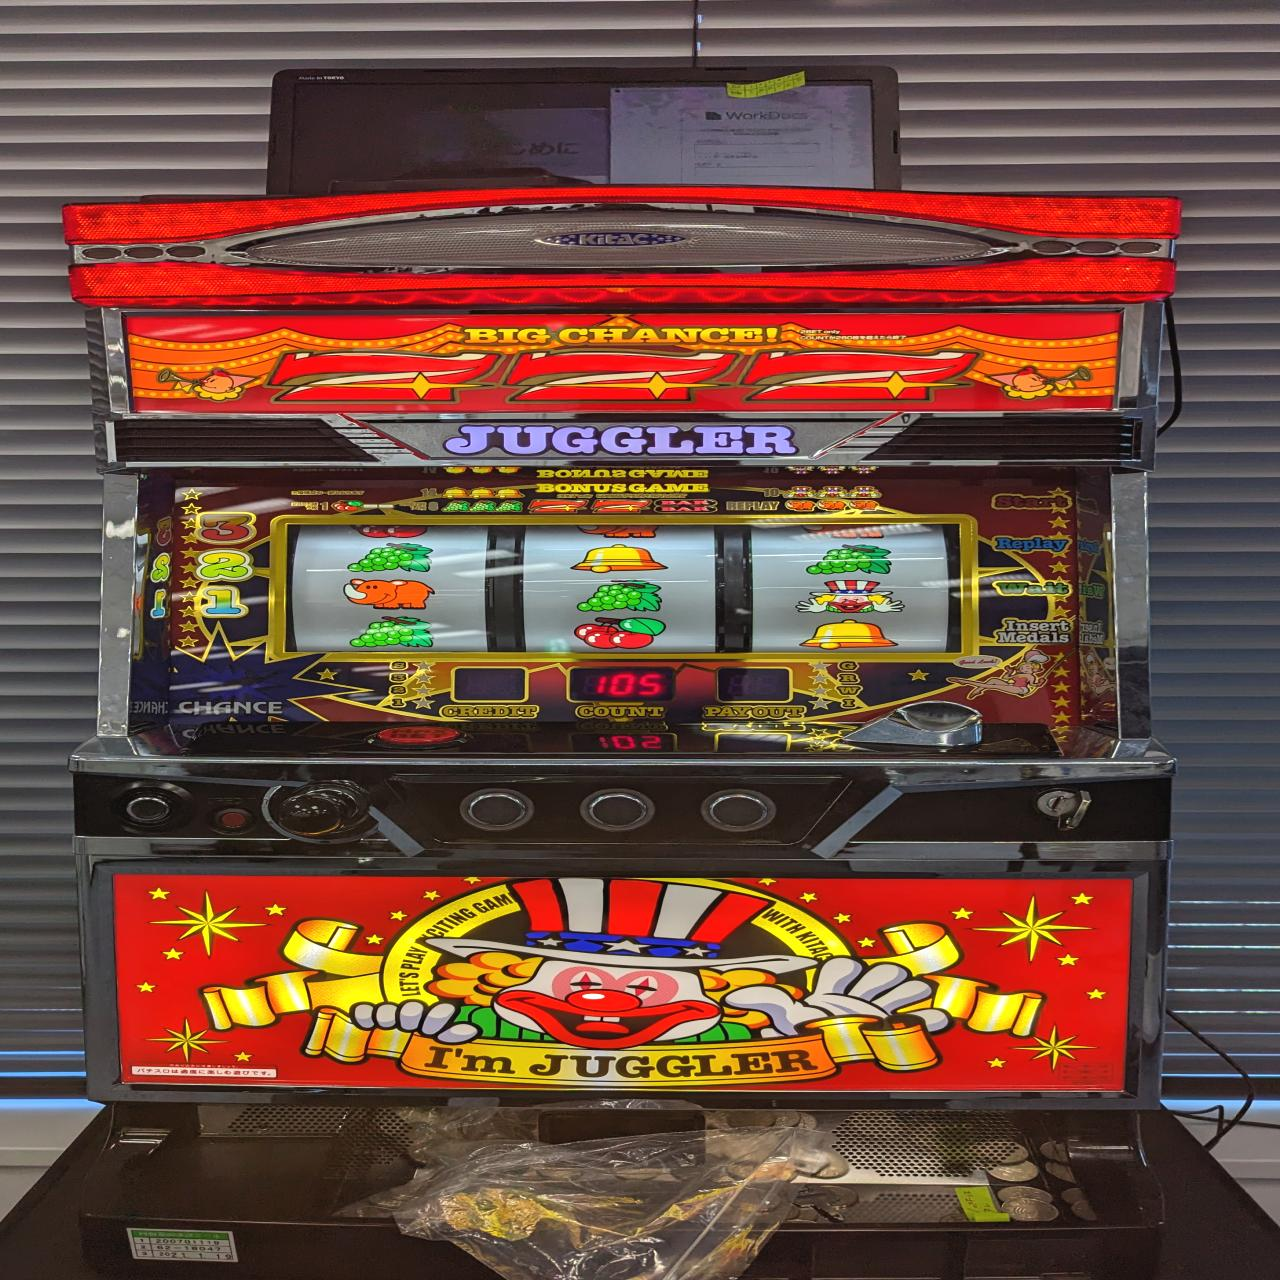Display: (278, 517, 975, 660)
bell: (801, 619, 898, 651), (570, 544, 672, 573)
cherry: (576, 617, 667, 649)
clown: (791, 580, 903, 614)
grape: (576, 579, 667, 613), (343, 542, 434, 576), (806, 544, 891, 577), (350, 615, 433, 647)
rhino: (345, 578, 436, 610)
